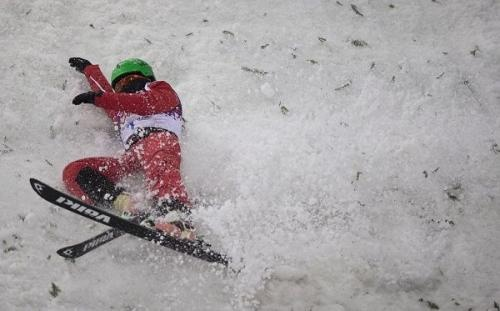falling: (46, 44, 205, 242)
